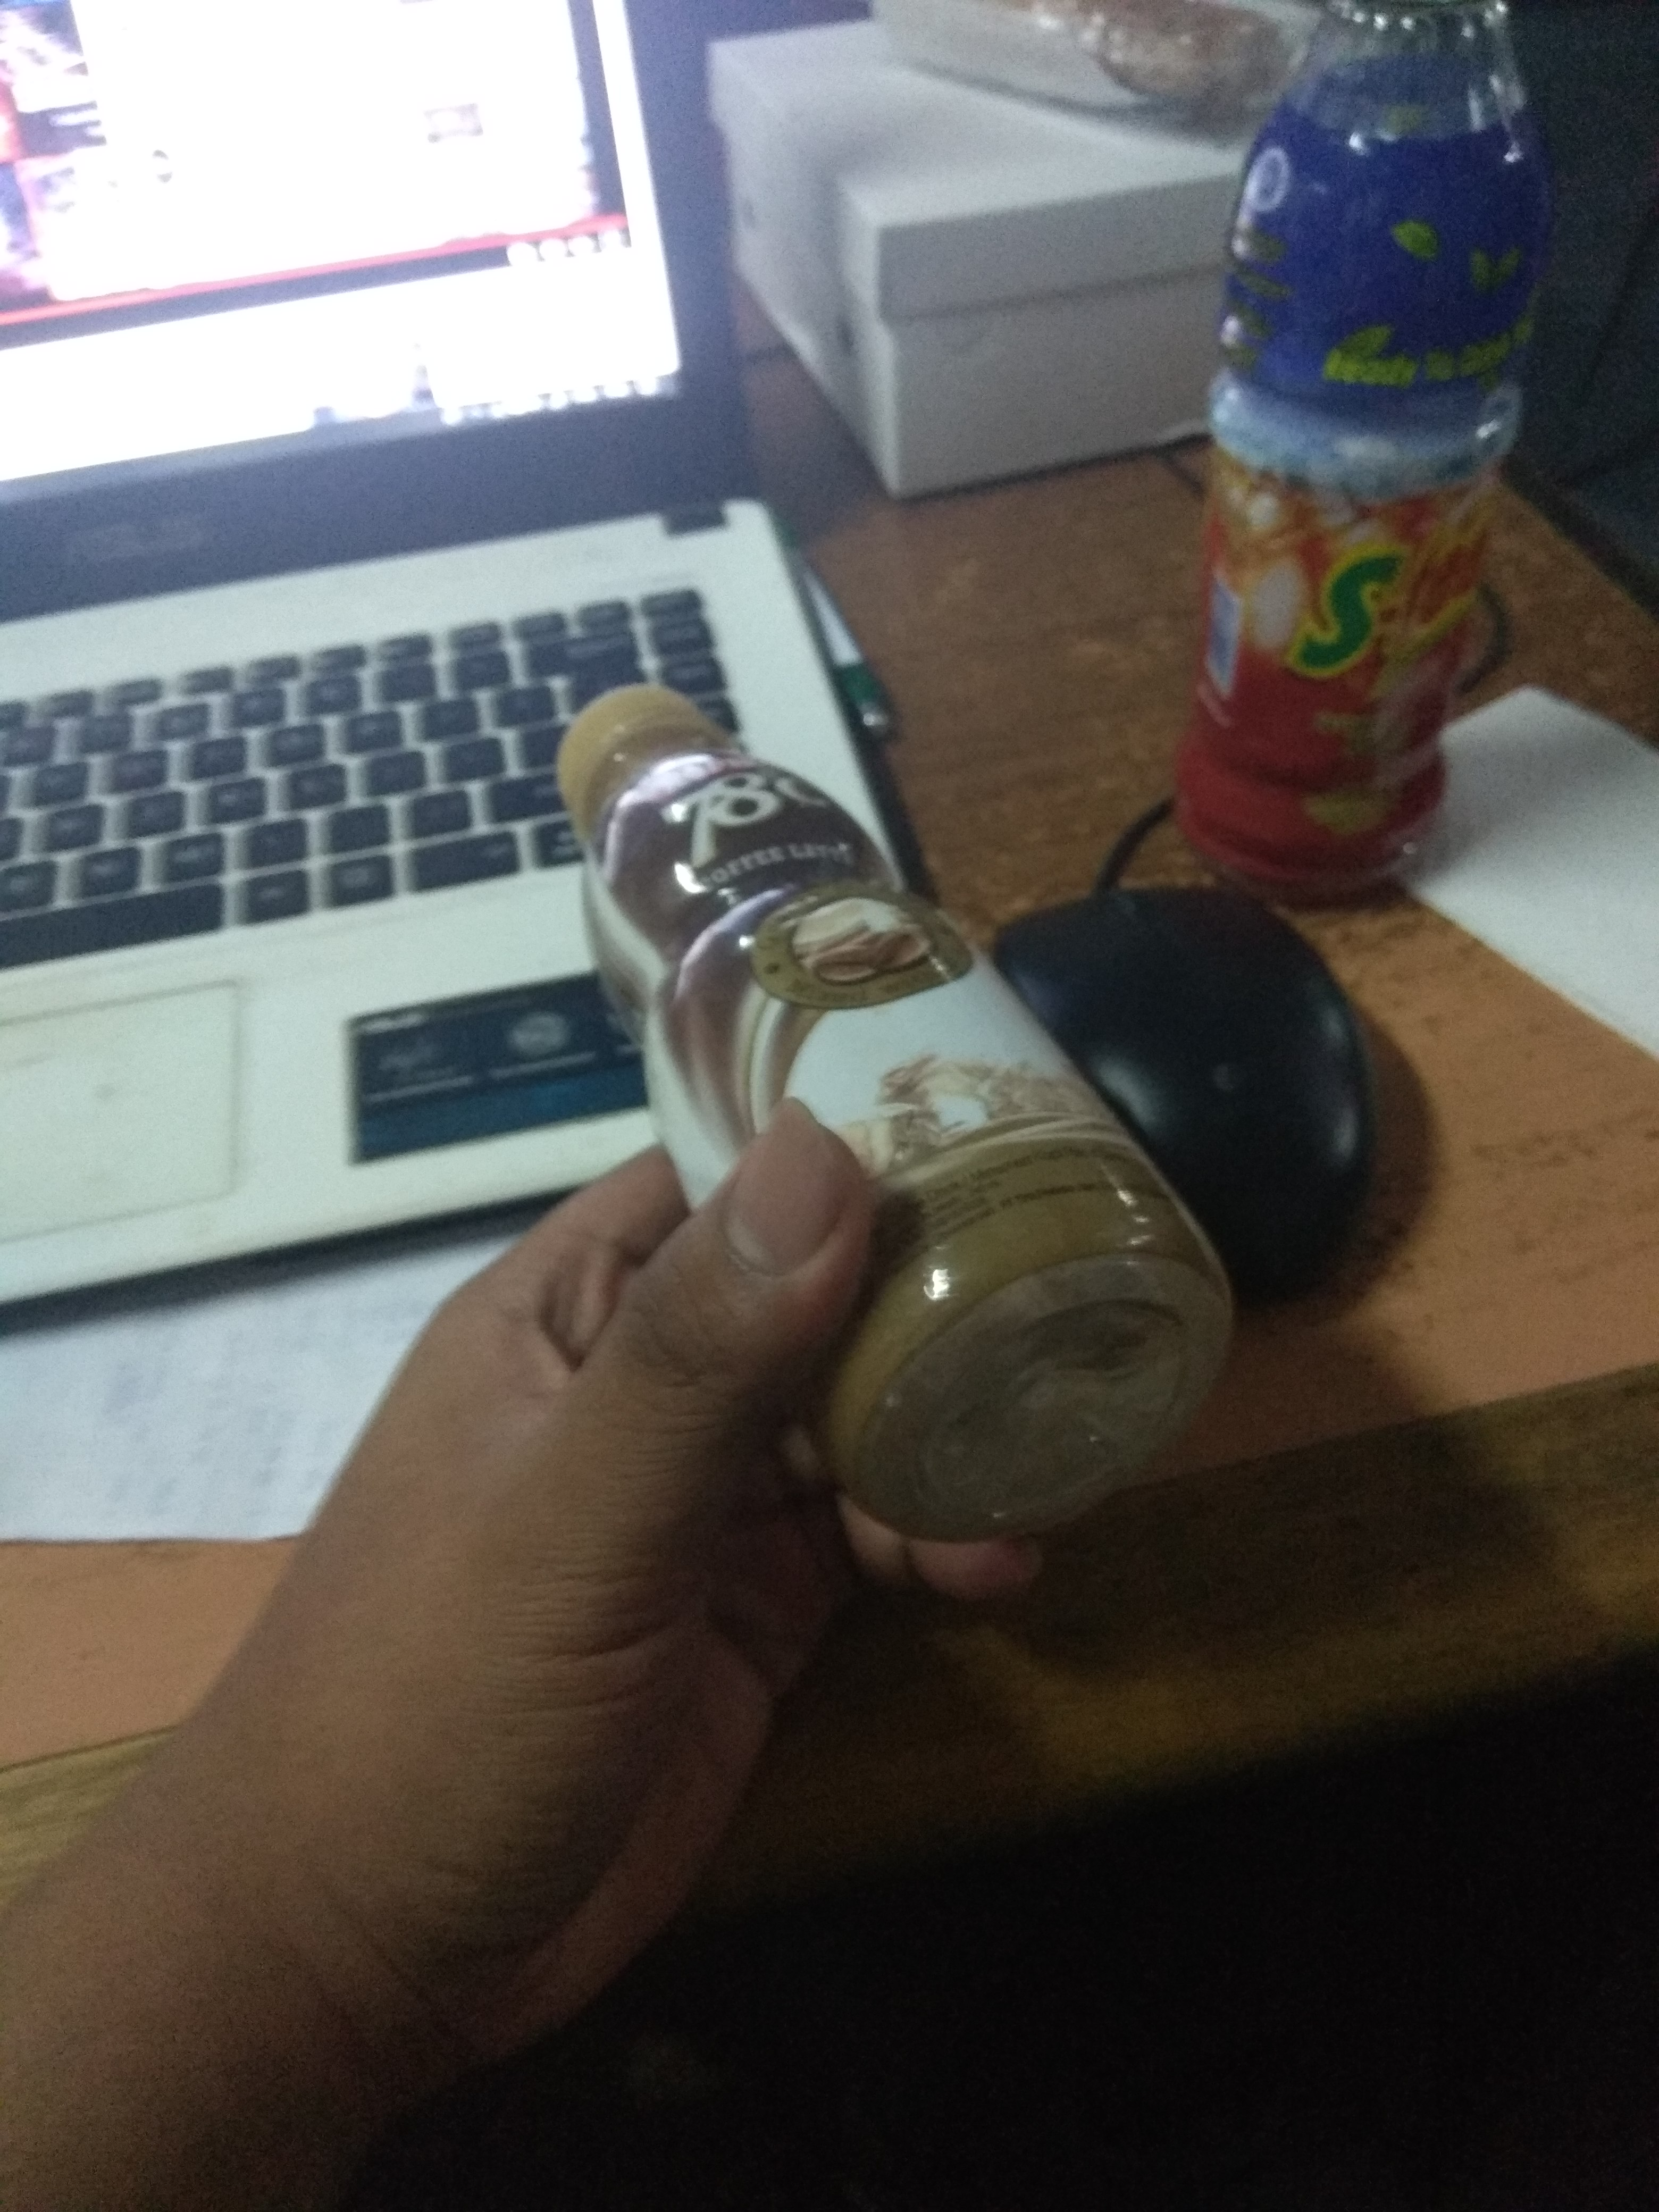botol: (296, 796, 1284, 1440), (507, 681, 1244, 1543), (507, 695, 1244, 1543), (551, 681, 1244, 1543), (286, 892, 1314, 1418), (587, 603, 1033, 1583), (587, 637, 1033, 1583), (599, 604, 1033, 1575), (66, 0, 267, 408), (66, 0, 261, 408), (66, 0, 267, 388), (155, 26, 254, 380), (155, 28, 254, 380), (124, 7, 214, 331), (124, 7, 214, 329), (577, 85, 669, 401), (579, 84, 669, 401), (579, 85, 669, 401), (127, 7, 214, 331), (127, 9, 214, 331), (687, 87, 774, 404), (35, 129, 176, 293), (38, 131, 176, 293), (476, 143, 561, 401), (476, 146, 561, 401), (307, 132, 432, 301), (317, 124, 432, 301), (796, 148, 878, 397), (317, 132, 432, 301), (486, 143, 561, 401), (486, 143, 559, 404), (73, 110, 164, 319), (803, 148, 878, 397), (73, 115, 164, 319), (38, 10, 129, 212), (42, 10, 129, 212), (9, 73, 235, 141), (44, 0, 122, 190), (44, 0, 122, 181), (110, 23, 174, 212), (110, 23, 173, 212), (45, 89, 106, 258), (213, 78, 272, 249), (214, 78, 272, 249), (49, 89, 106, 258), (176, 91, 230, 256), (176, 92, 230, 256), (279, 85, 333, 246), (279, 87, 333, 246), (89, 12, 139, 181), (159, 14, 209, 183), (223, 12, 274, 181), (26, 14, 77, 181), (160, 12, 209, 183), (28, 12, 77, 181), (91, 12, 139, 181), (160, 14, 209, 183), (225, 12, 274, 181), (28, 14, 77, 181), (282, 87, 333, 246), (103, 0, 153, 153), (103, 0, 150, 153), (106, 0, 150, 153), (106, 3, 150, 153), (28, 51, 77, 181), (92, 2, 132, 139), (38, 5, 77, 136), (94, 3, 132, 134), (38, 7, 77, 136), (382, 52, 423, 167), (96, 3, 132, 134), (317, 54, 359, 167), (66, 35, 105, 155), (190, 54, 230, 167), (42, 7, 77, 136), (190, 56, 230, 167), (254, 54, 295, 165), (54, 14, 91, 136), (129, 54, 167, 167), (70, 35, 105, 155), (24, 12, 77, 91), (28, 10, 77, 91), (40, 3, 77, 110), (54, 2, 89, 110), (56, 28, 89, 139), (44, 3, 77, 110), (28, 3, 59, 108), (0, 0, 28, 110), (40, 59, 70, 155), (265, 5, 319, 57), (42, 59, 70, 155), (58, 3, 85, 92), (28, 49, 54, 143), (58, 5, 85, 92), (28, 51, 54, 143), (108, 30, 193, 57), (223, 2, 267, 56), (223, 3, 267, 56), (0, 56, 24, 141), (0, 56, 23, 141), (28, 51, 49, 134), (21, 70, 89, 91), (52, 26, 71, 91), (31, 26, 49, 92), (3, 75, 23, 134)
